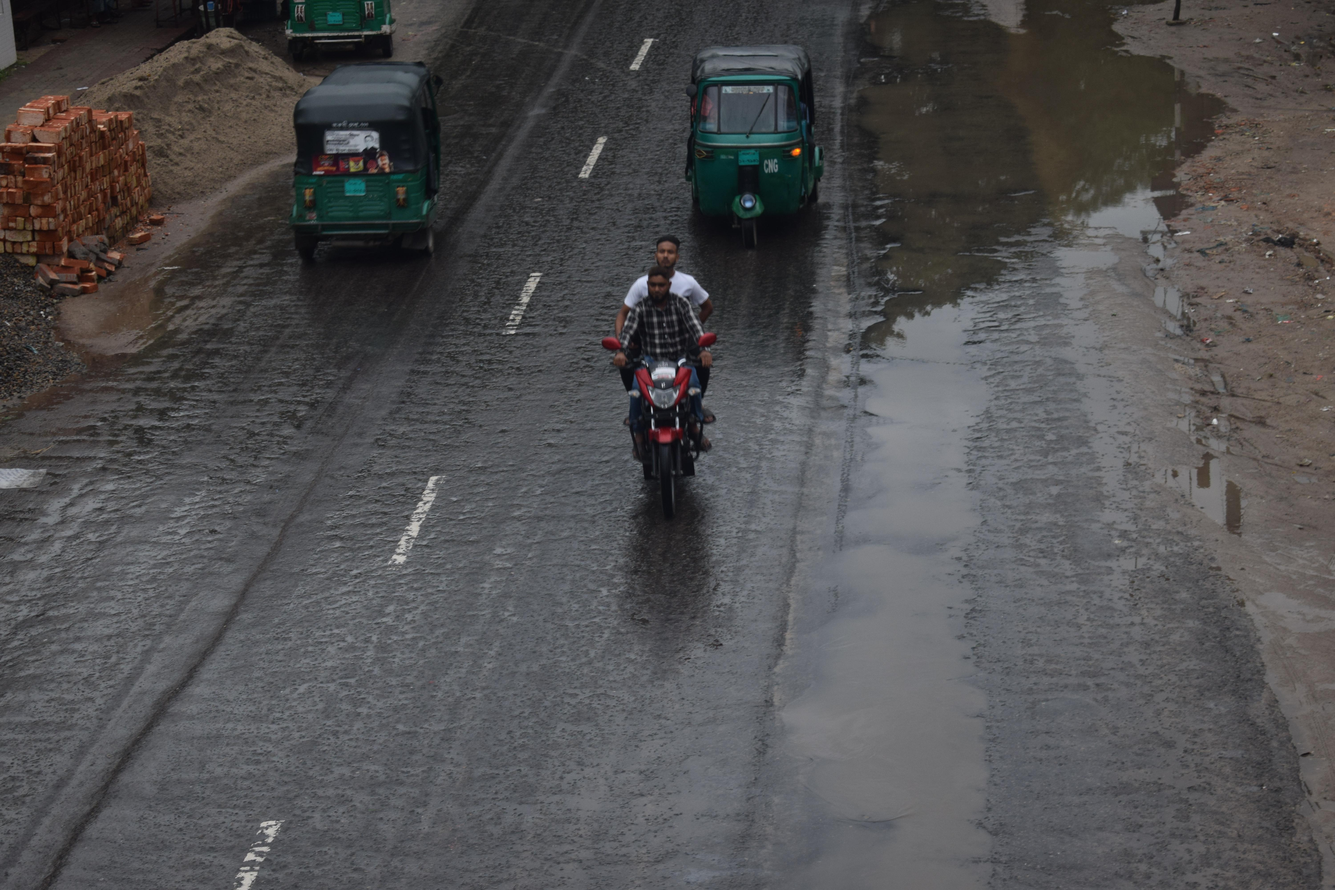Bike: (576, 228, 752, 538)
